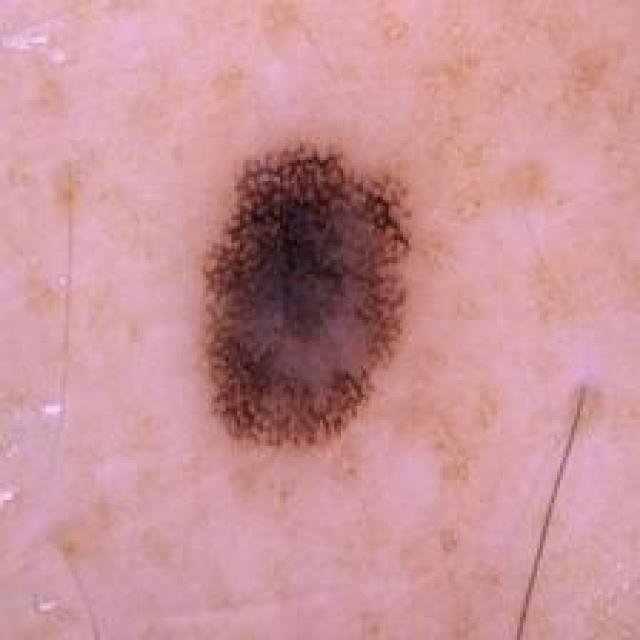Cancer: (197, 140, 414, 449)
